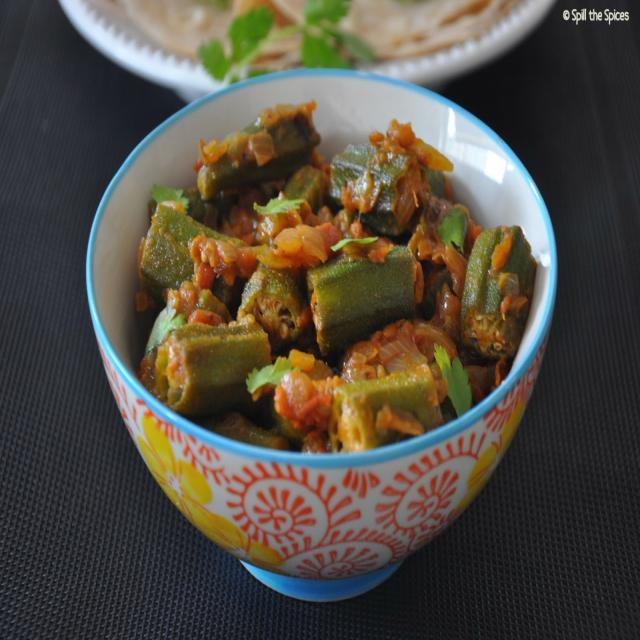BhindiMasala: (137, 101, 537, 452)
